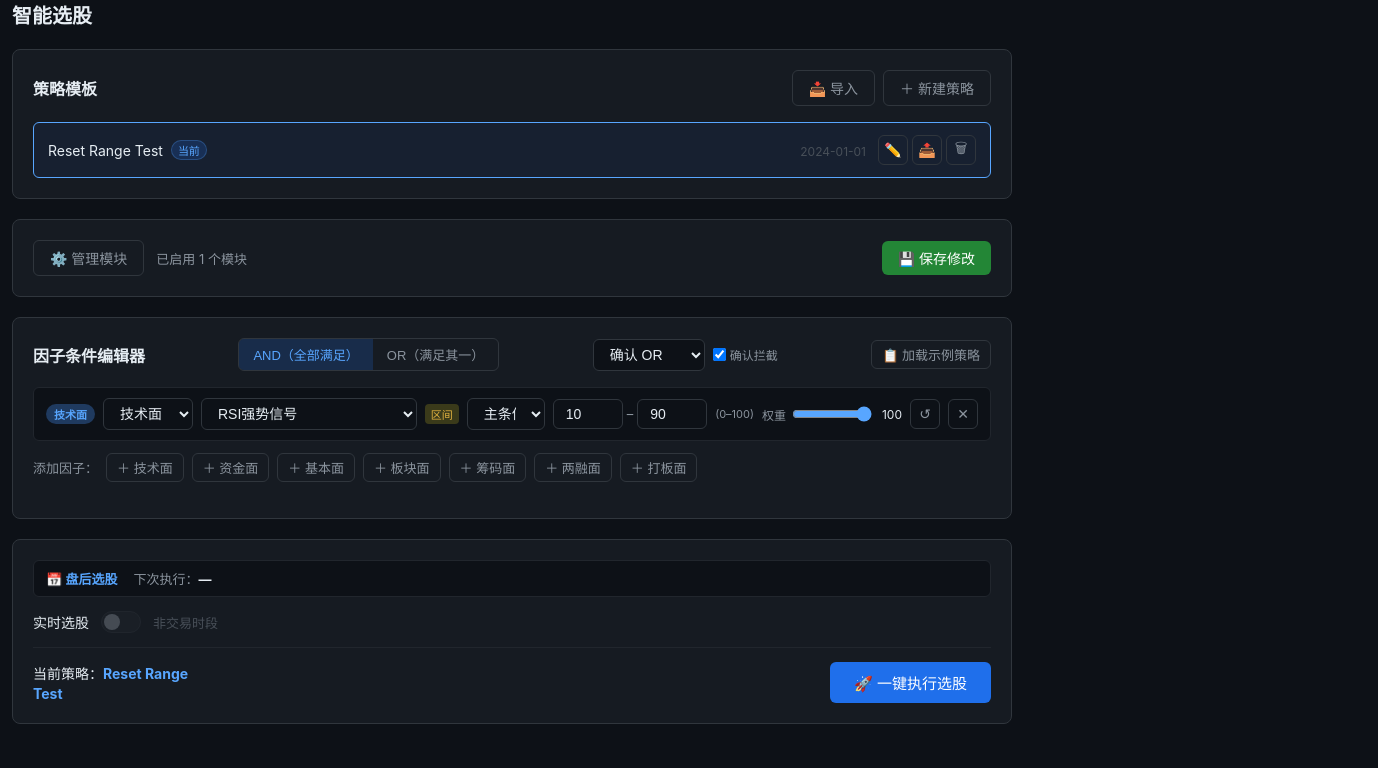
Test: ScreenerView - reset-default button functionality › reset-default button restores range factor defaults
Expected: the number of number fields with class "factor-threshold-half" is 2, [553, 399, 623, 429]; [637, 399, 707, 429]
Step 1. Click the button named "恢复默认" → (925, 414), box [910, 399, 940, 429]
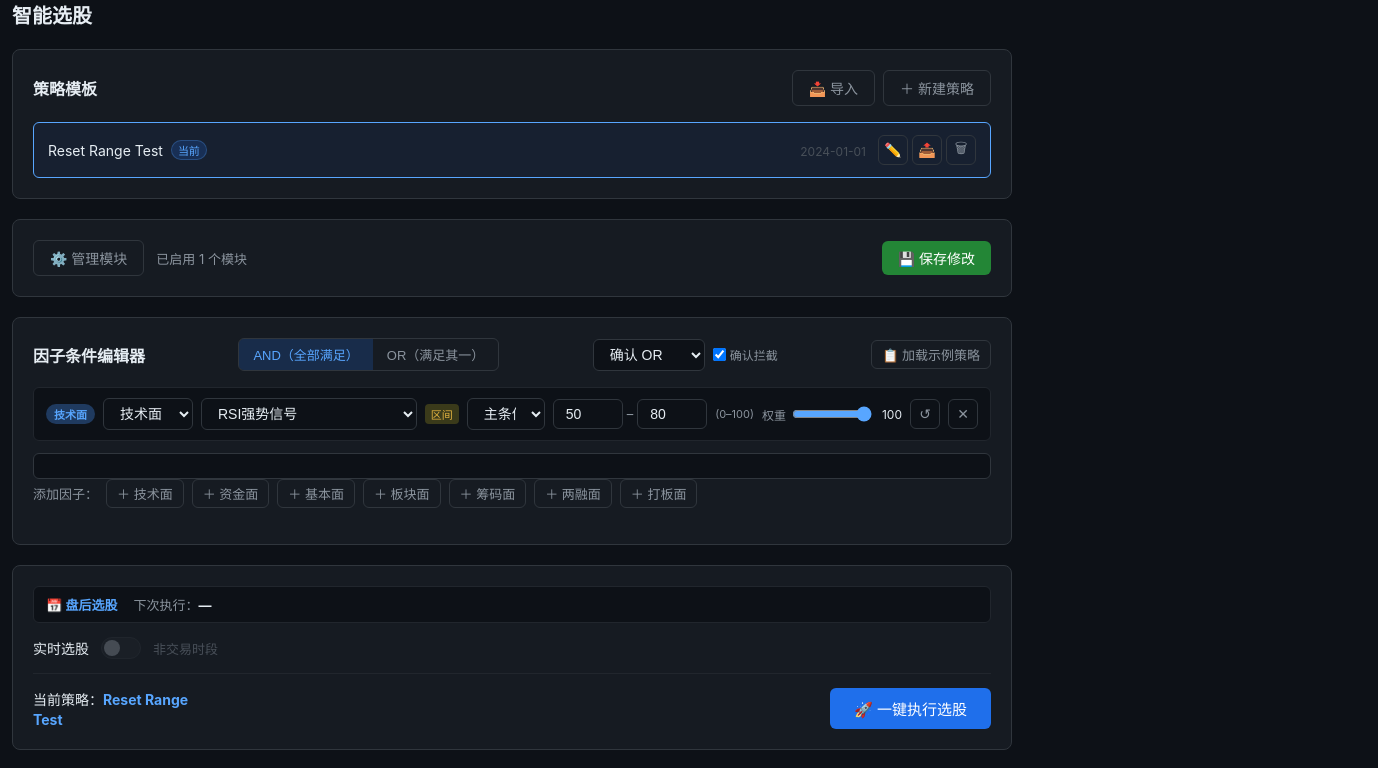
Expected: the number field with class "factor-threshold-half" holds "50", [553, 399, 623, 429]
Expected: the number field with class "factor-threshold-half" holds "80", [637, 399, 707, 429]
